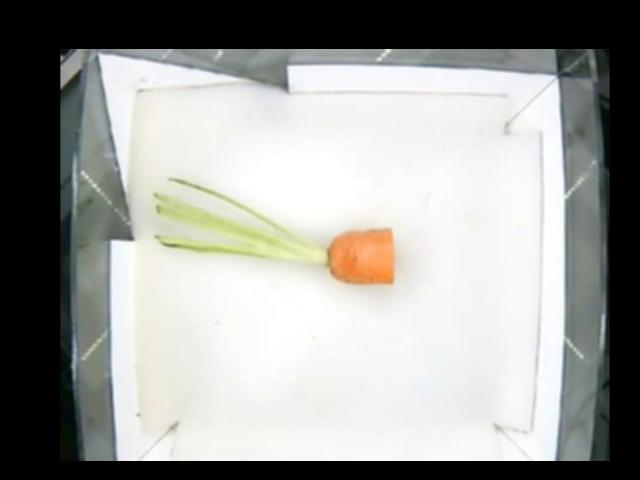Carrot: (269, 225, 395, 287)
